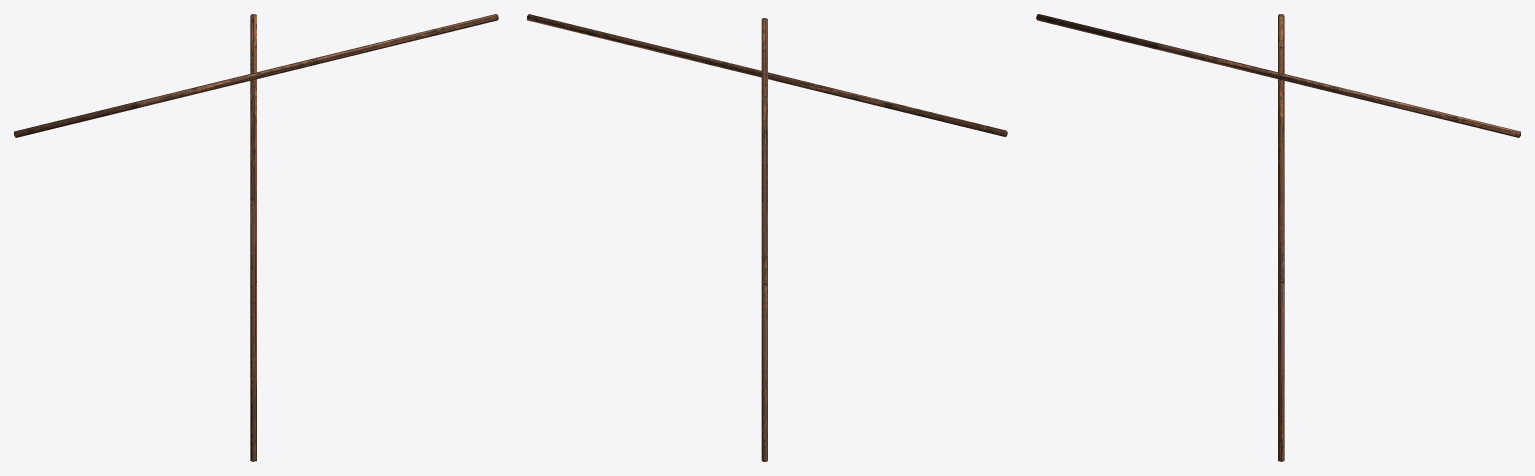
File: germ_boat_props.dae
3 renders of one model, left to right at view 1: azimuth 30°, elevation 25°; view 2: azimuth 150°, elevation 25°; view 3: azimuth 330°, elevation 25°, orthographic.
Parts seen in each view (by area): view 1: boat_props_variant; view 2: boat_props_variant; view 3: boat_props_variant.
Part boxes in pixels (x1,y1,x2,y2): boat_props_variant: (14, 14, 498, 461); boat_props_variant: (527, 14, 1007, 461); boat_props_variant: (1036, 14, 1520, 461).
Size of the model in its own units: 17.64 by 0.3713 by 15.57.
